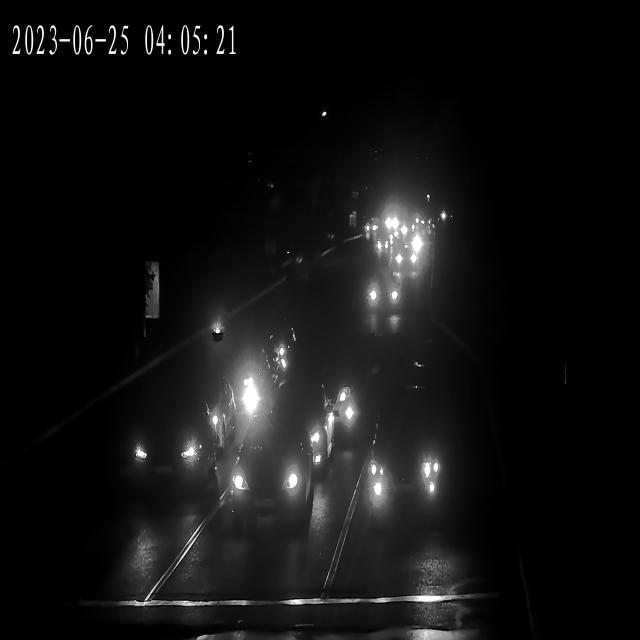Car: (366, 402, 446, 546), (120, 400, 223, 497), (232, 427, 310, 542), (273, 375, 337, 479), (216, 344, 281, 432), (319, 369, 382, 452), (358, 274, 399, 315), (392, 244, 421, 269), (368, 230, 391, 251), (369, 234, 392, 253), (379, 214, 402, 231), (358, 220, 378, 235)
